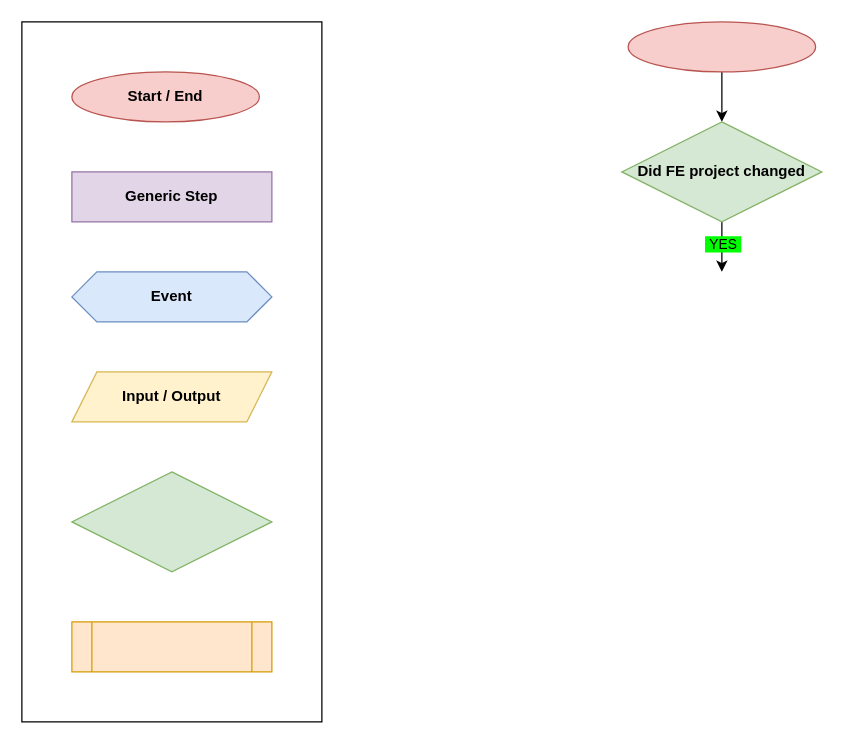
The diagram is 844 pixels wide and 744 high, and some of its shapes have lost their labels. Here are the shapes that lost their labels. From the top down, the box of each, then its label:
(627, 21, 816, 72): Start
(71, 471, 272, 572): Decision
(71, 621, 272, 672): Subroutine / Subprogram
